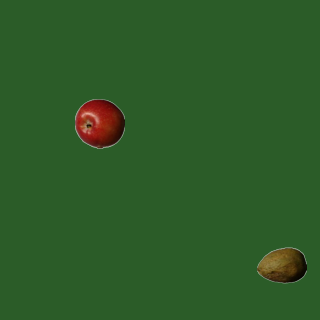Apple Braeburn: (74, 98, 124, 148)
Papaya: (256, 240, 306, 290)
